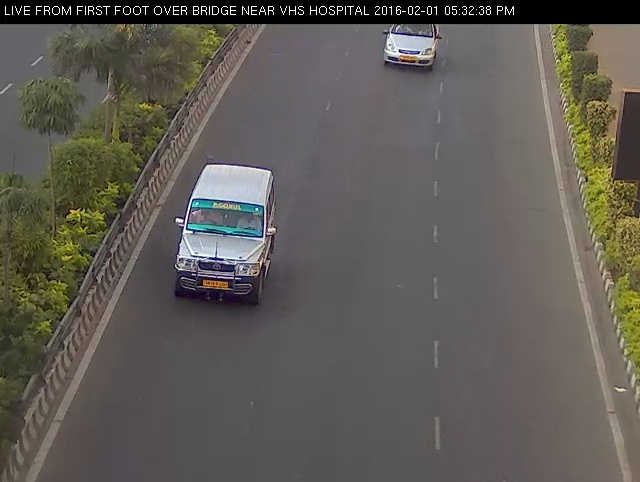Car: (165, 152, 284, 314), (373, 17, 451, 79)
